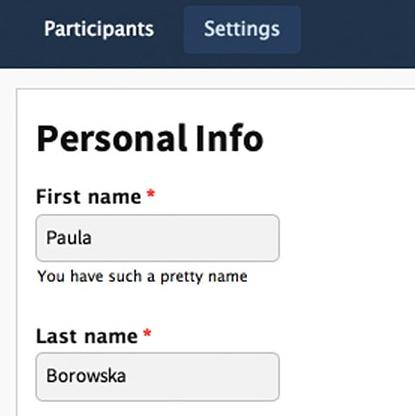field: (36, 211, 281, 263), (36, 350, 281, 402)
field_with_label: (34, 188, 286, 266), (34, 328, 286, 405)
